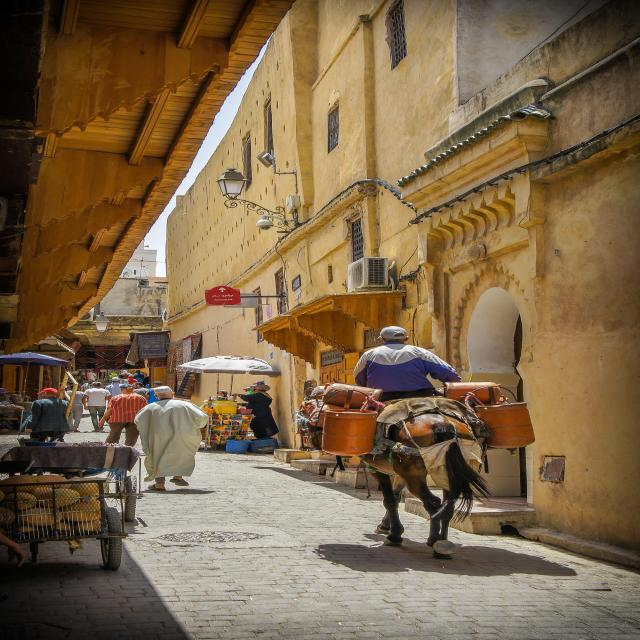adult: (351, 325, 462, 400), (136, 386, 208, 490), (98, 383, 148, 445), (22, 388, 72, 442), (233, 385, 274, 440), (82, 381, 112, 432), (63, 384, 84, 432), (107, 377, 124, 397), (148, 381, 161, 403), (132, 381, 147, 395), (125, 375, 137, 384), (218, 389, 228, 398)
